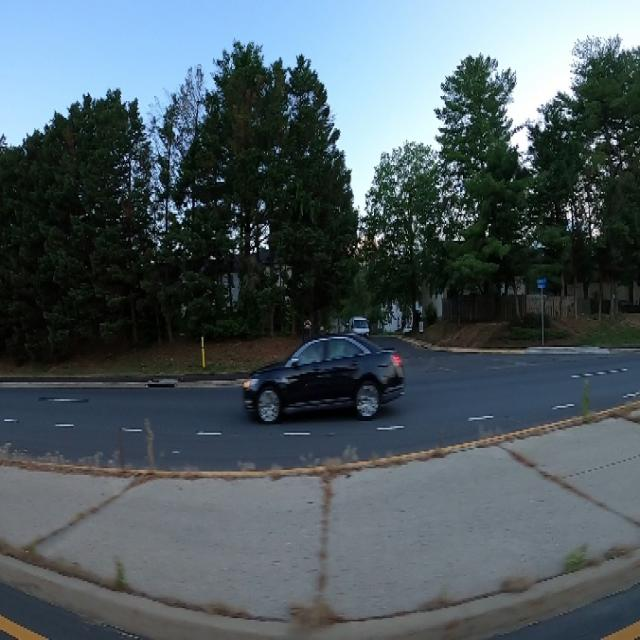car: (234, 313, 411, 440)
